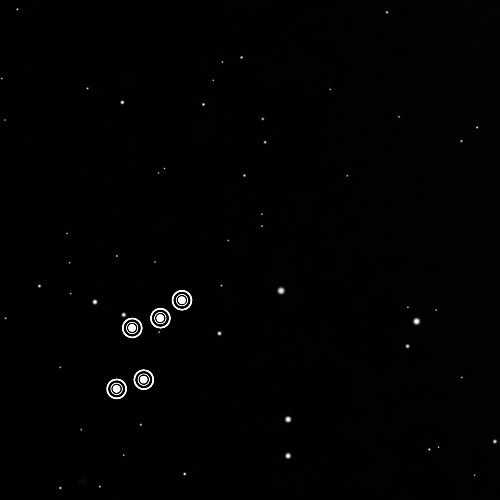lyra: (96, 277, 201, 409)
